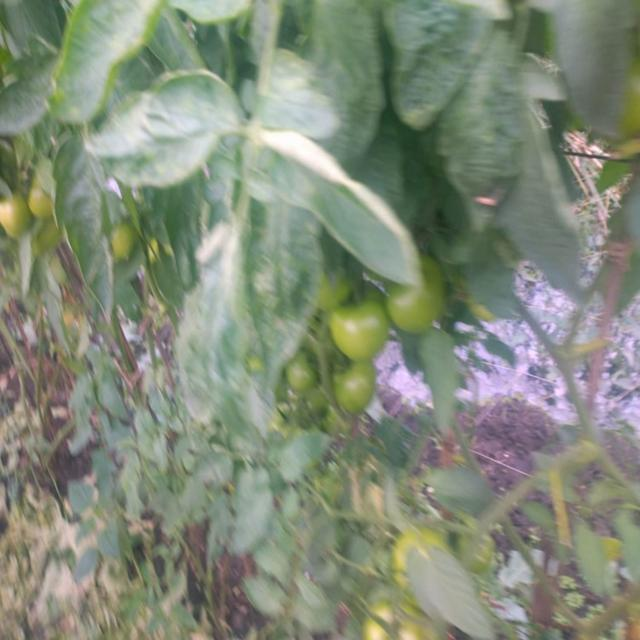tomato: (335, 293, 383, 363), (391, 282, 444, 333), (338, 361, 378, 414), (368, 601, 413, 640), (322, 277, 357, 314), (391, 532, 414, 588), (1, 193, 30, 237), (25, 186, 58, 221), (289, 354, 319, 390), (109, 227, 137, 262), (627, 65, 640, 130), (34, 225, 60, 257)
